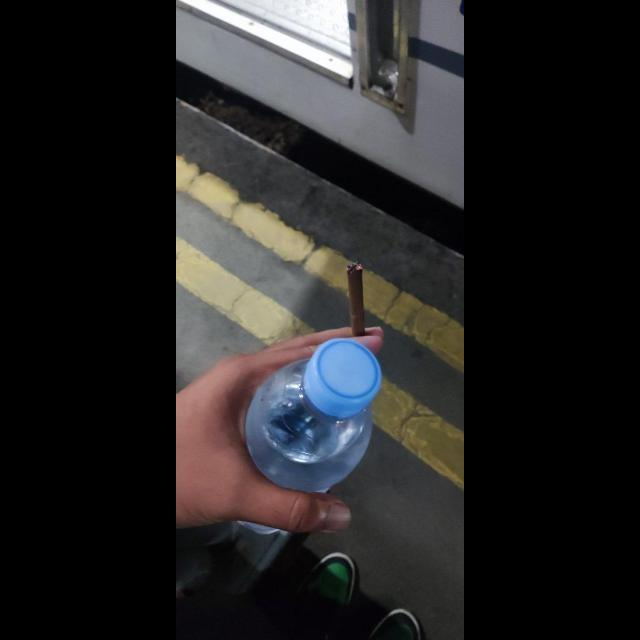rokok: (338, 250, 372, 336)
